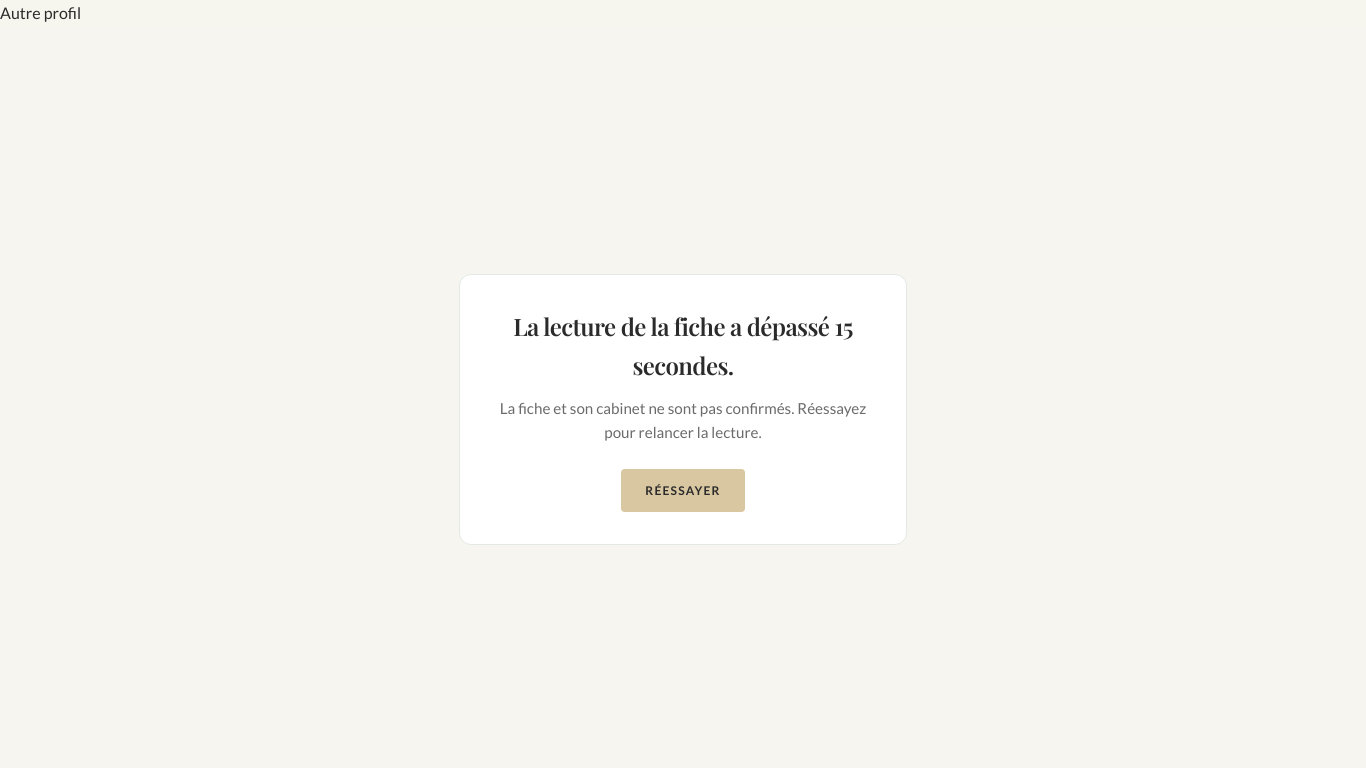
Test: Fiche du praticien de la visite courante › conserve un seul budget de quinze secondes quand le cabinet commence après le profil
This screenshot has width=1366, height=768.
Expected: the message shows "15 secondes", [513, 310, 853, 381]
Click the button "Réessayer".
click(683, 490)  # box [621, 469, 745, 512]
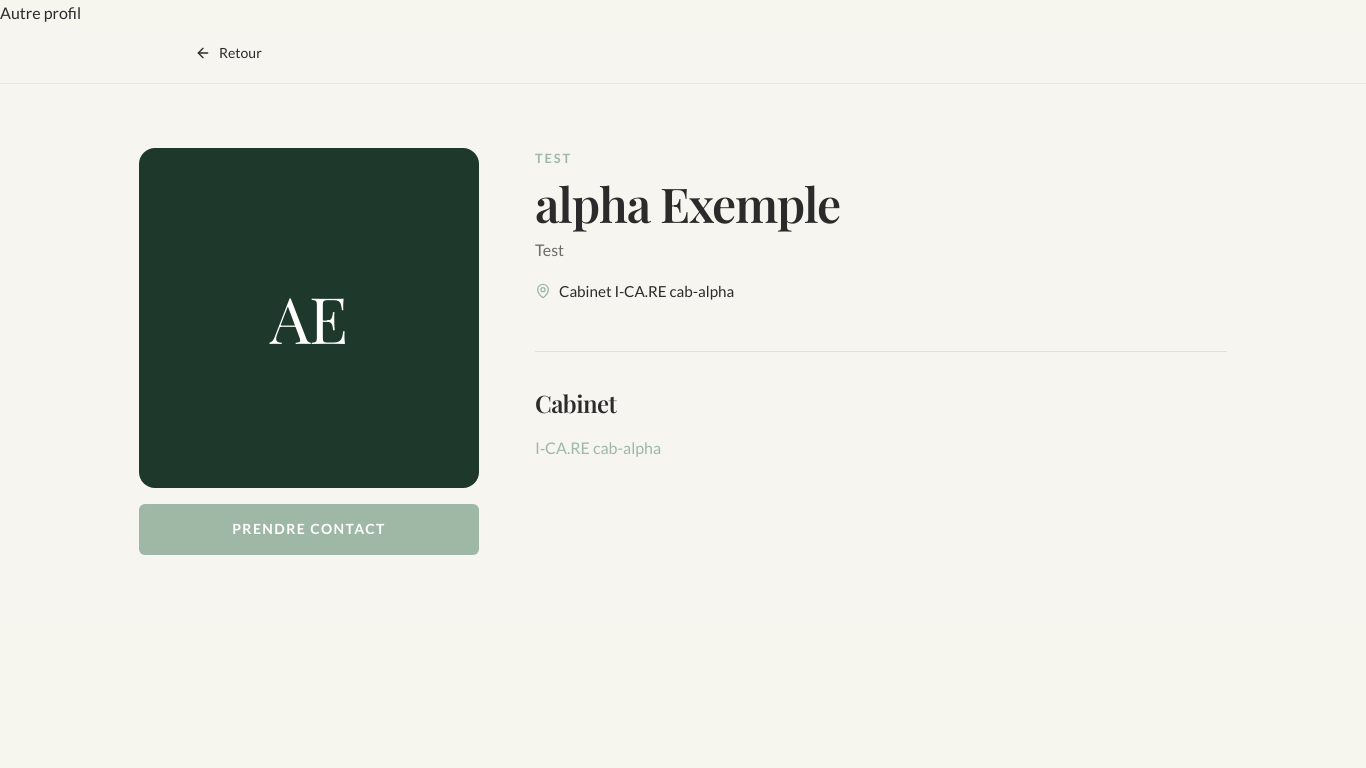
Expected: the heading "alpha Exemple" is shown, [535, 171, 840, 235]
